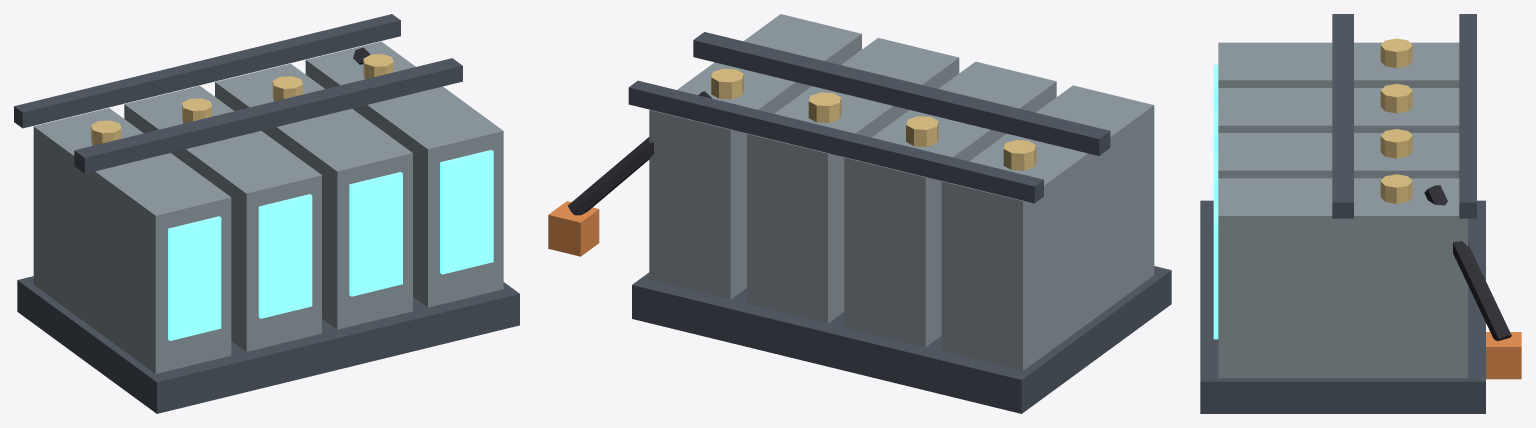
Rendered from sub_battery_pack.glb.
3 renders of one model, left to right at view 1: azimuth 30°, elevation 25°; view 2: azimuth 150°, elevation 25°; view 3: azimuth 270°, elevation 25°, orthographic. The views are drawn at different scales.
Parts seen in each view (by area): view 1: sub_battery_pack_hull, sub_battery_pack_dark, sub_battery_pack_glow, sub_battery_pack_brass; view 2: sub_battery_pack_hull, sub_battery_pack_dark, sub_battery_pack_brass, sub_battery_pack_accent, sub_battery_pack_rubber; view 3: sub_battery_pack_hull, sub_battery_pack_dark, sub_battery_pack_brass, sub_battery_pack_rubber, sub_battery_pack_glow, sub_battery_pack_accent.
Boxes of the visible parts, x1,y1,x2,y2 form: sub_battery_pack_hull: [33, 41, 503, 373]; sub_battery_pack_dark: [14, 14, 519, 413]; sub_battery_pack_glow: [168, 149, 493, 340]; sub_battery_pack_brass: [91, 54, 393, 145]; sub_battery_pack_hull: [649, 14, 1154, 370]; sub_battery_pack_dark: [628, 32, 1171, 413]; sub_battery_pack_brass: [711, 68, 1036, 170]; sub_battery_pack_accent: [548, 201, 599, 256]; sub_battery_pack_rubber: [568, 91, 711, 215]; sub_battery_pack_hull: [1218, 42, 1467, 377]; sub_battery_pack_dark: [1200, 14, 1485, 413]; sub_battery_pack_brass: [1380, 38, 1412, 203]; sub_battery_pack_rubber: [1424, 185, 1511, 341]; sub_battery_pack_glow: [1213, 64, 1218, 339]; sub_battery_pack_accent: [1486, 332, 1521, 379].
Bounding box in the file's own units: 2.85 × 1.33 × 1.8.
